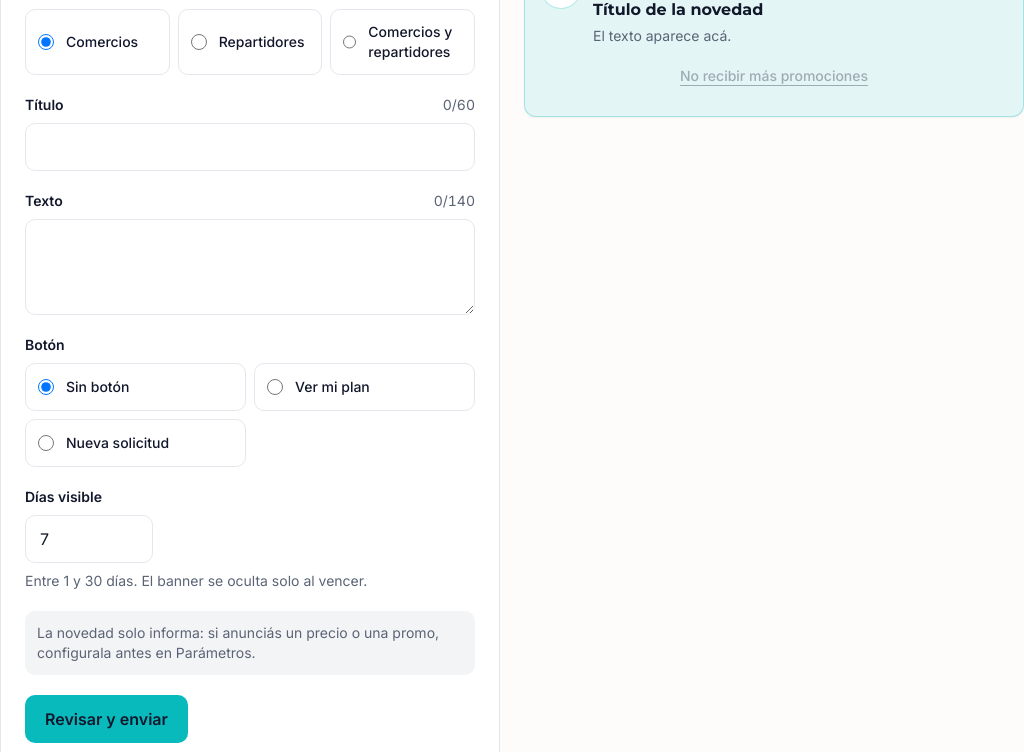
it: T-414: panel de novedades del admin › valida antes de contar destinatarios
(page scrolled)
Click the button "Revisar y enviar".
click(106, 719)  # box [25,695,188,743]
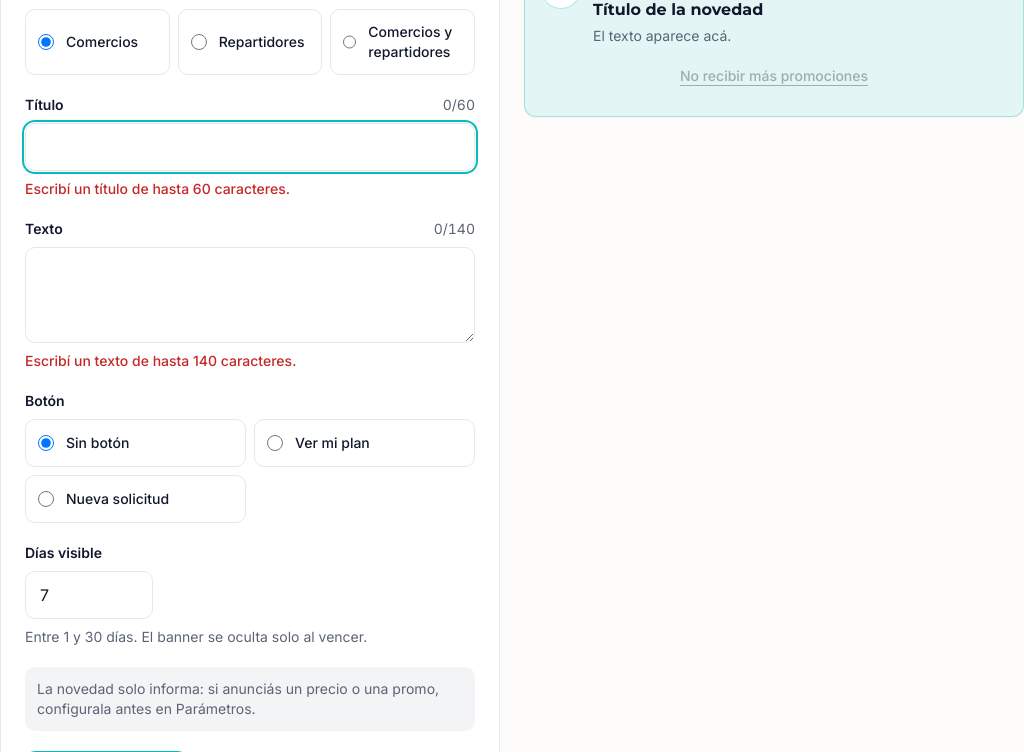
Now the text "Escribí un título de hasta 60 caracteres." is shown, box [25,180,290,197]
